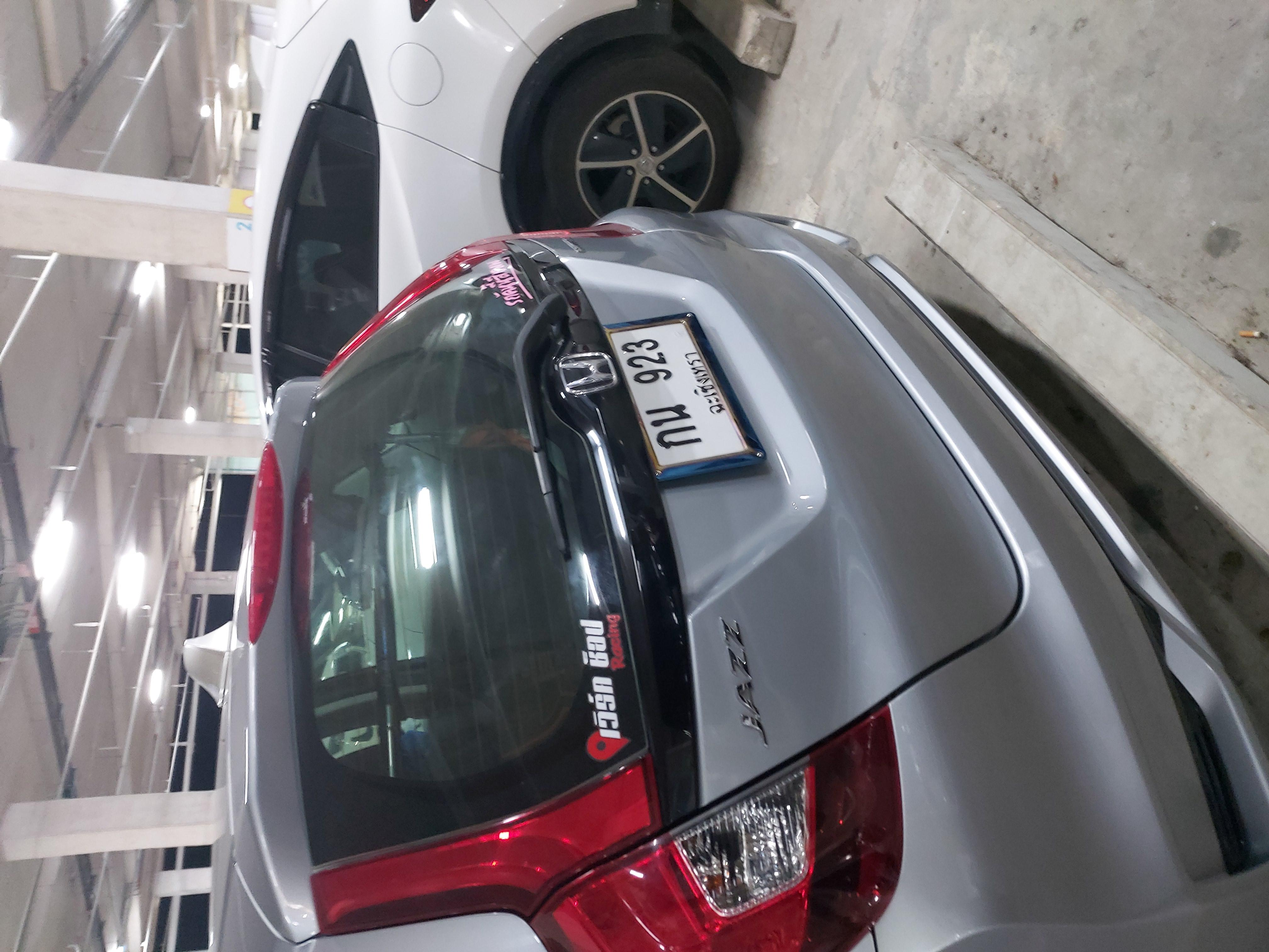license-plate: (648, 455, 848, 561)
